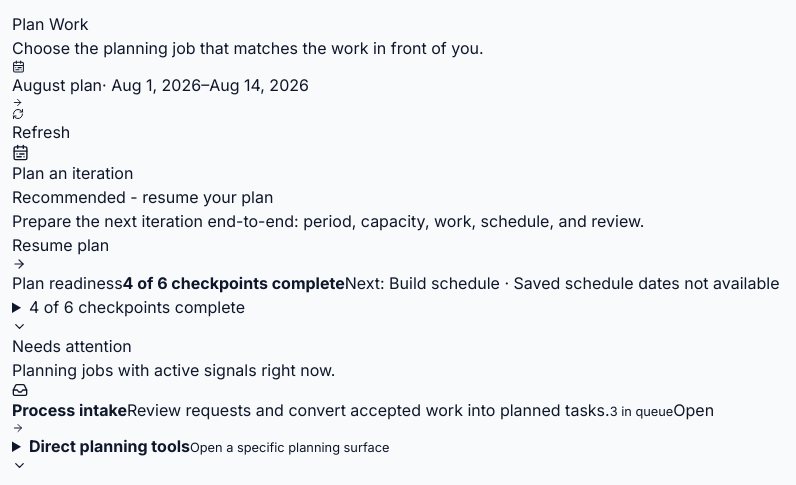
PlanPage mixed planning launcher › announces the result of an explicit refresh
Step 1. Click the button "Refresh" → click(41, 126), box [12,108,70,144]
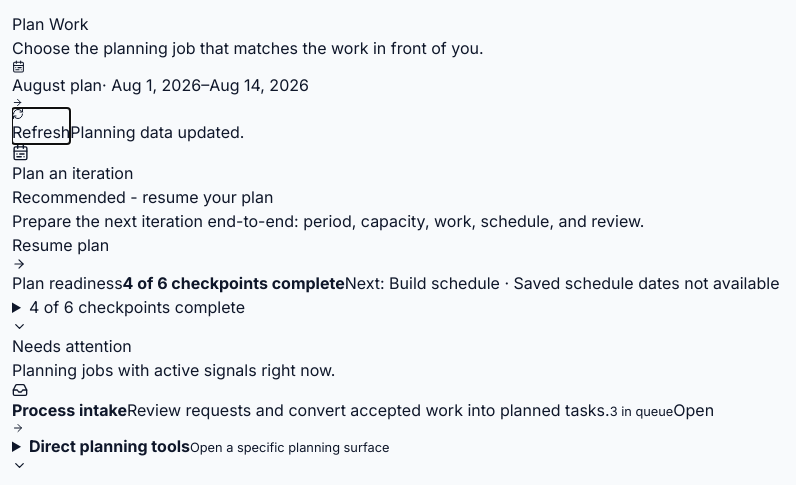
Expected: the message reads "Planning data updated.", [70,122,244,142]
